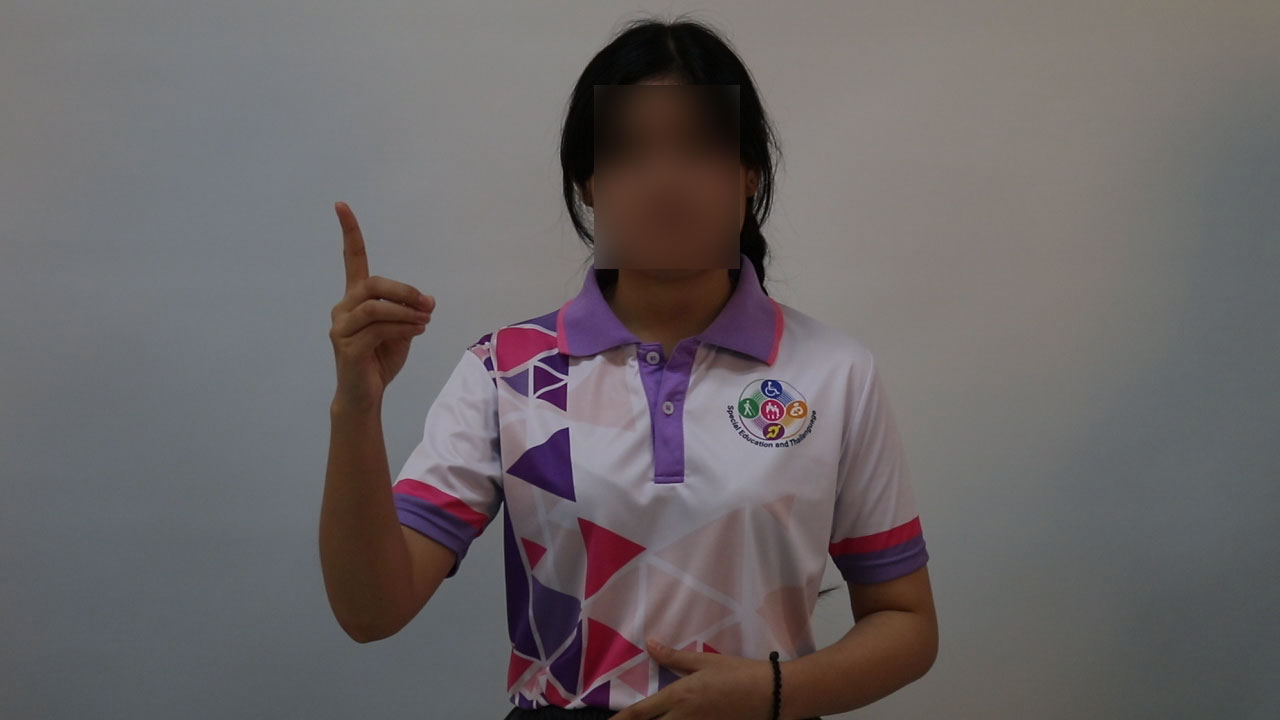dor: (321, 191, 445, 410)
